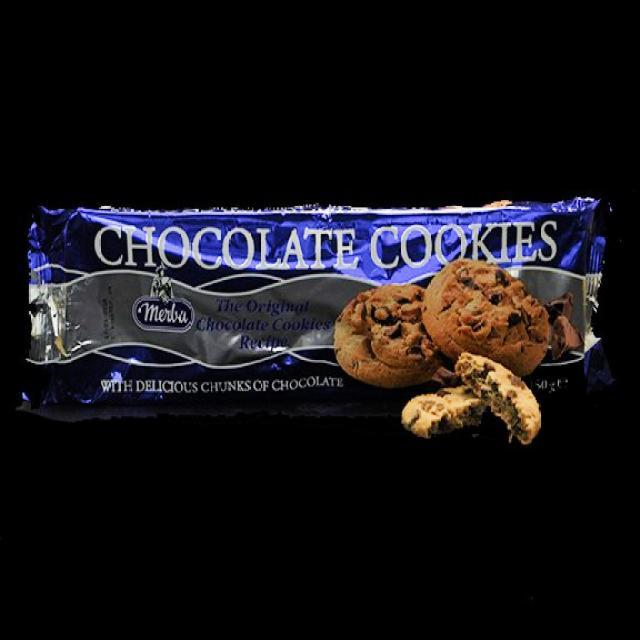Cookie: (27, 201, 605, 399), (421, 258, 552, 370), (395, 352, 546, 448)
